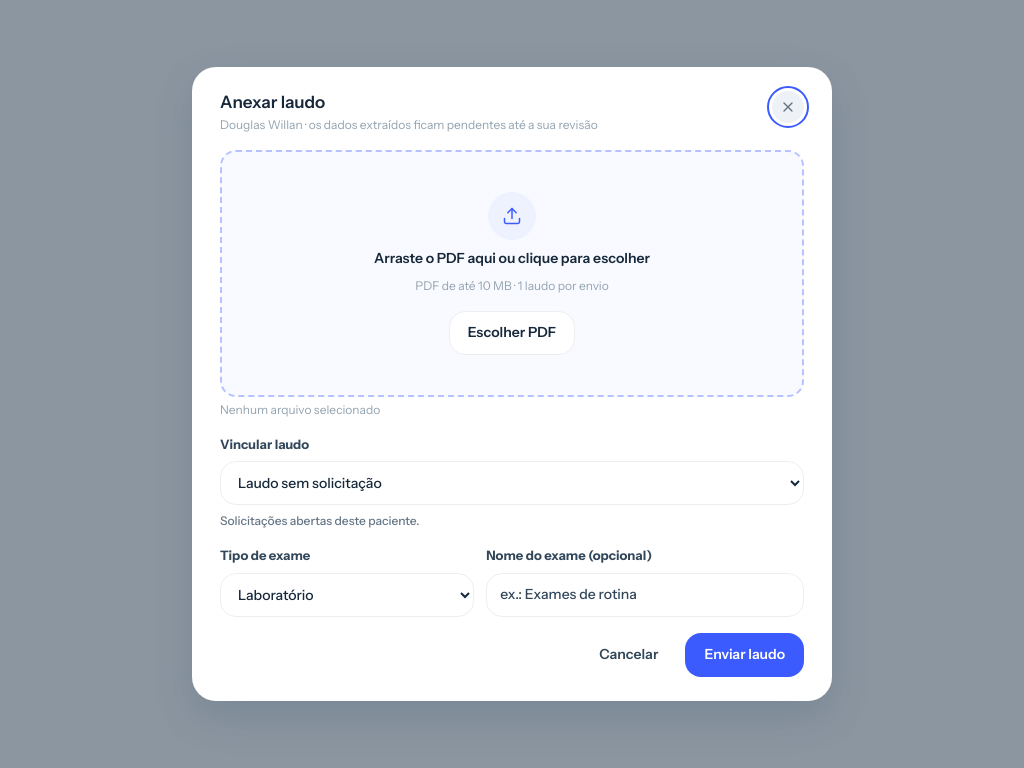
sem arquivo o envio cobra a seleção
Click the button "Enviar laudo".
click(745, 655)  # box left=685, top=633, right=804, bottom=677
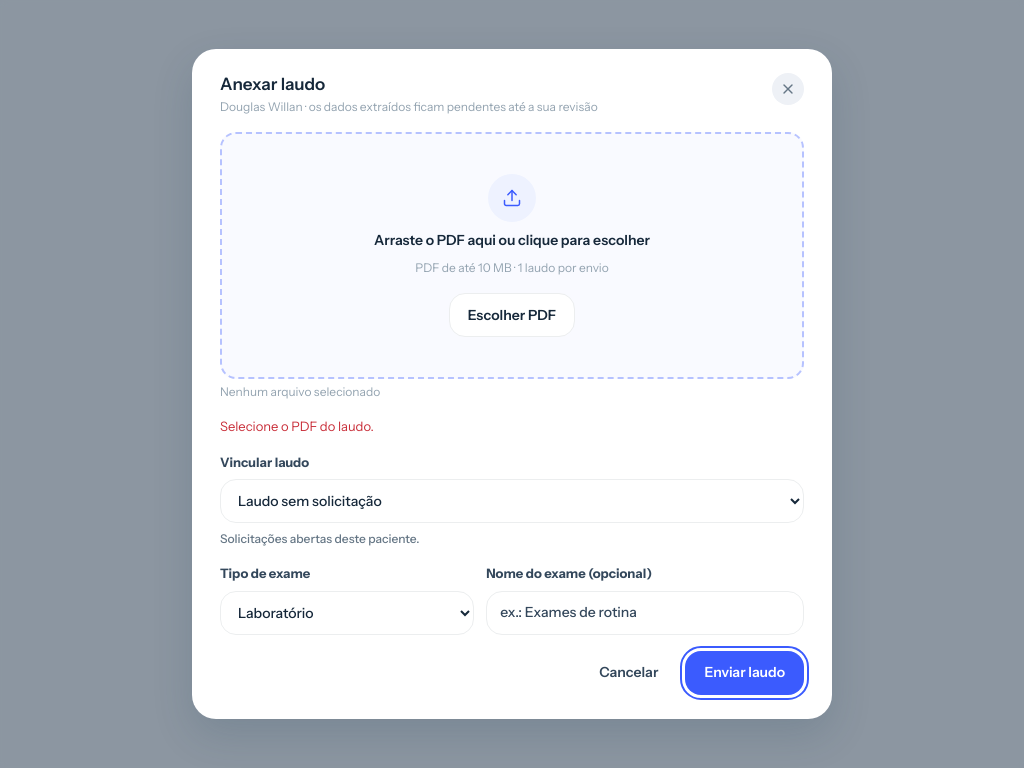
Now the message "Selecione o PDF do laudo." is shown, box left=220, top=418, right=374, bottom=434
